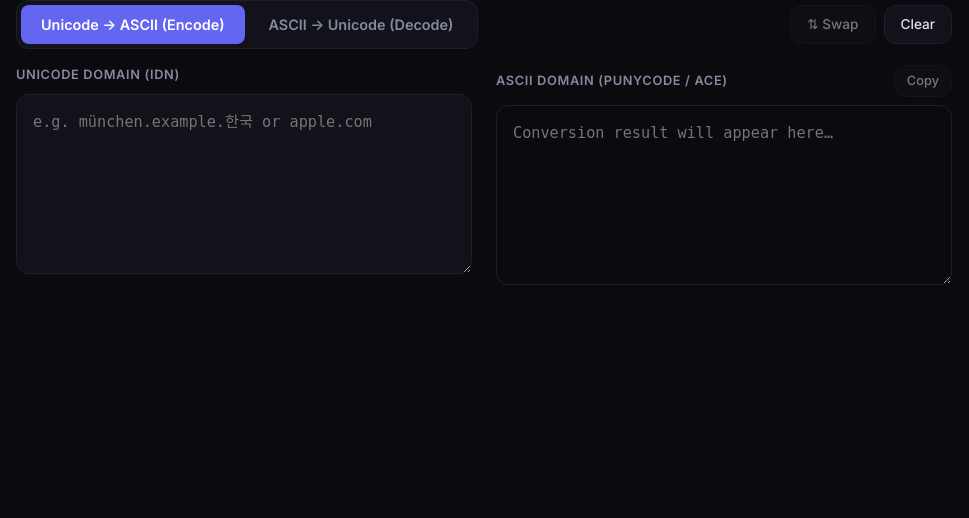
Test: PunycodeTool actions › swaps input and output when Swap button is clicked
The image size is (969, 518).
Type "münchen.de" into the text box labelled "Unicode Domain (IDN)".
click(244, 184); type("münchen.de")  # box top-left (16, 94), bottom-right (472, 274)
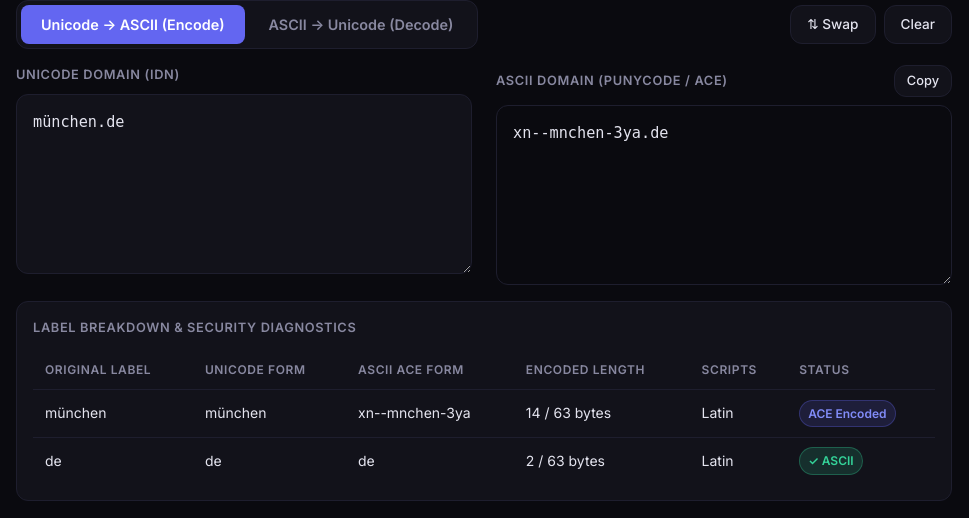
Expected: the text box labelled "ASCII Domain (Punycode / ACE)" holds "xn--mnchen-3ya.de", top-left (496, 105), bottom-right (952, 285)
Click the button "⇅ Swap".
click(833, 24)  # box top-left (790, 5), bottom-right (876, 44)
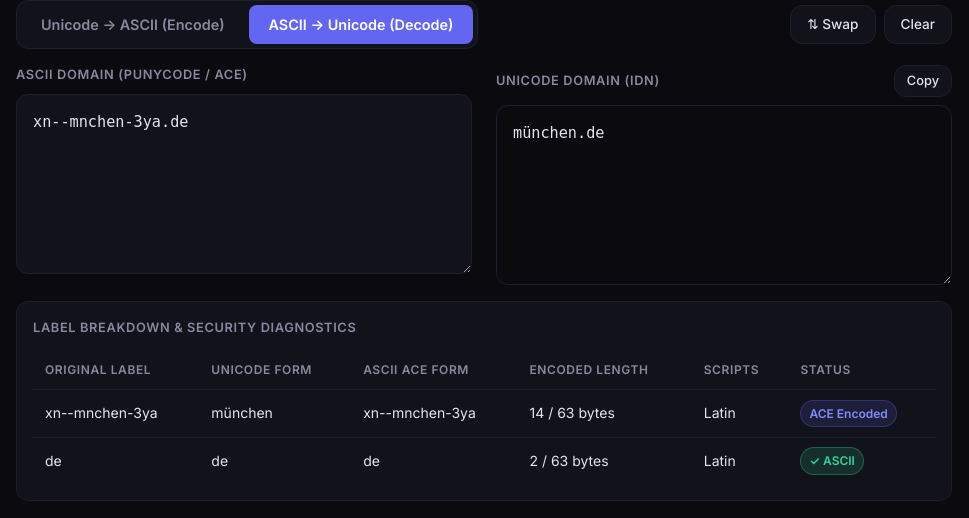
Expected: the text box labelled "ASCII Domain (Punycode / ACE)" holds "xn--mnchen-3ya.de", top-left (16, 94), bottom-right (472, 274)
Expected: the text box labelled "Unicode Domain (IDN)" holds "münchen.de", top-left (496, 105), bottom-right (952, 285)
